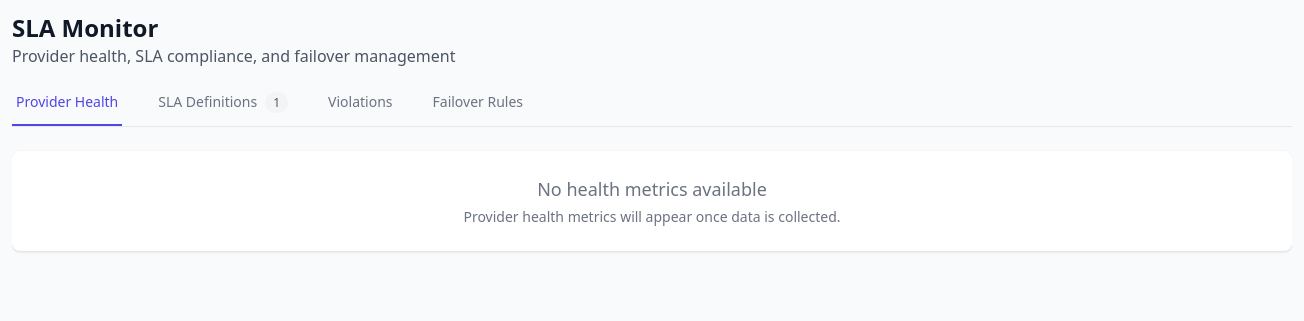
Test: SLAMonitoring › renders inactive SLA definition badge
The width and height of the screenshot is (1304, 321).
Click the button "SLA Definitions1". click: x=223, y=109
box: [154,92,292,126]
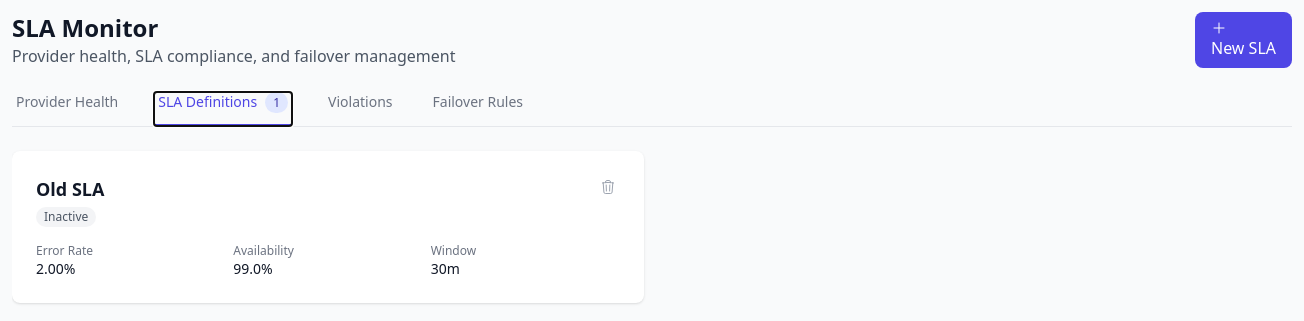
Expected: the text "Inactive" is shown, [36,207,96,227]
